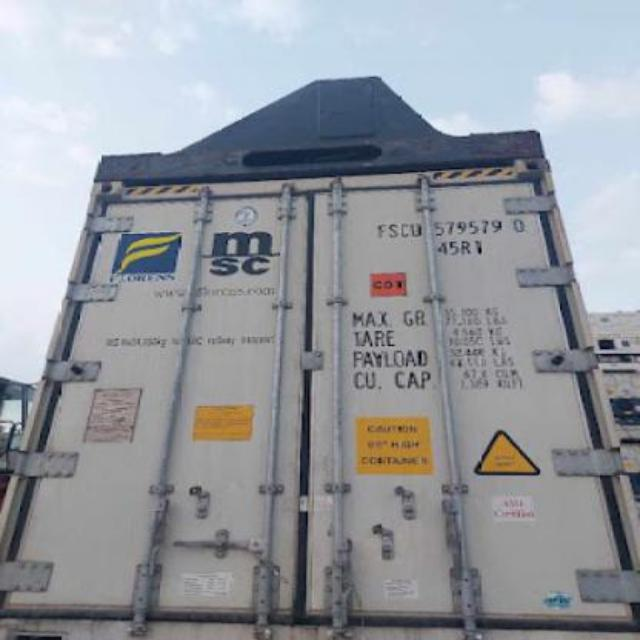0: (508, 212, 534, 235)
5: (464, 211, 478, 237), (431, 217, 444, 240)
7: (476, 213, 489, 237), (444, 216, 454, 237)
9: (490, 212, 500, 242), (454, 214, 466, 236)
C: (398, 214, 410, 242)
F: (376, 218, 386, 242)
S: (386, 220, 399, 240)
U: (410, 218, 420, 238)
